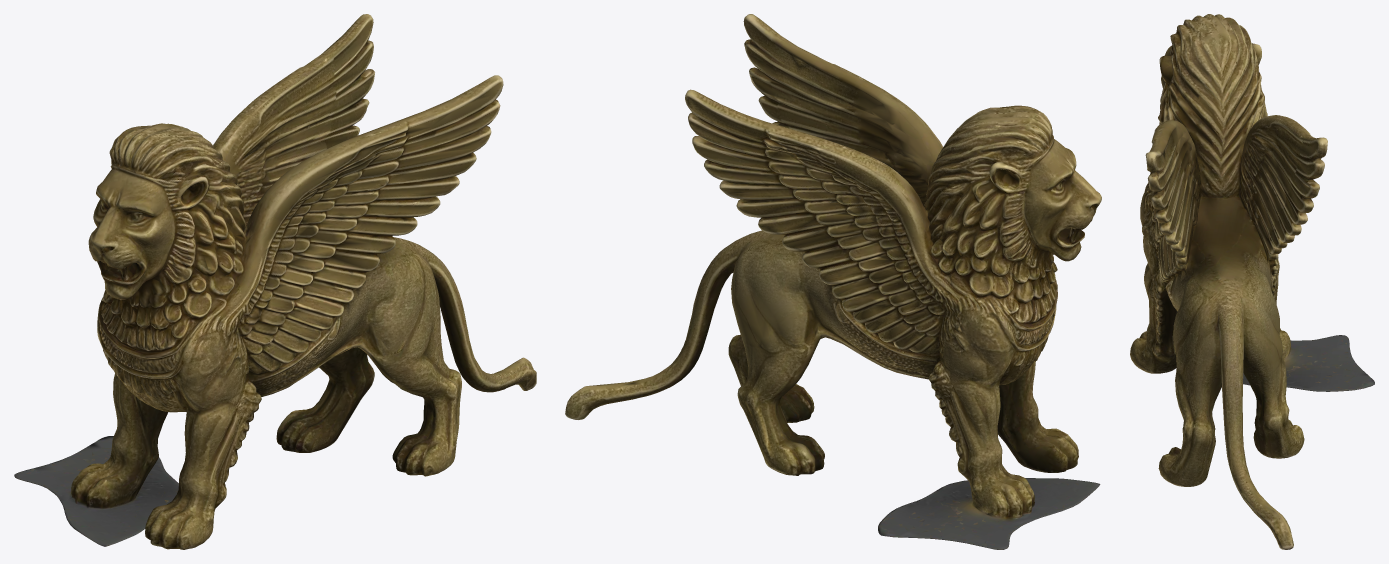
File: lion.glb
3 renders of one model, left to right at view 1: azimuth 30°, elevation 25°; view 2: azimuth 150°, elevation 25°; view 3: azimuth 270°, elevation 25°, orthographic. The views are drawn at different scales.
Parts seen in each view (by area): view 1: node_0; view 2: node_0; view 3: node_0.
Part boxes in pixels (x1,y1,x2,y2): node_0: [14, 14, 536, 549]; node_0: [565, 14, 1101, 549]; node_0: [1130, 14, 1374, 549].
Bounding box in the file's own units: 0.9527 × 0.7171 × 0.4541.
1 material, 1 textured.
